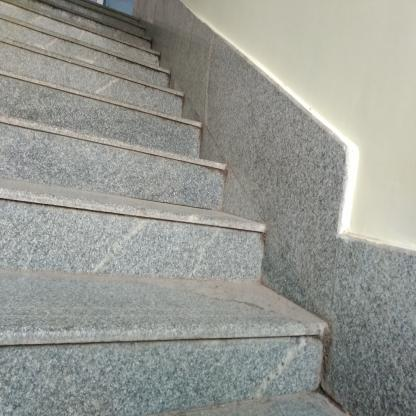stairs: (2, 162, 230, 416)
